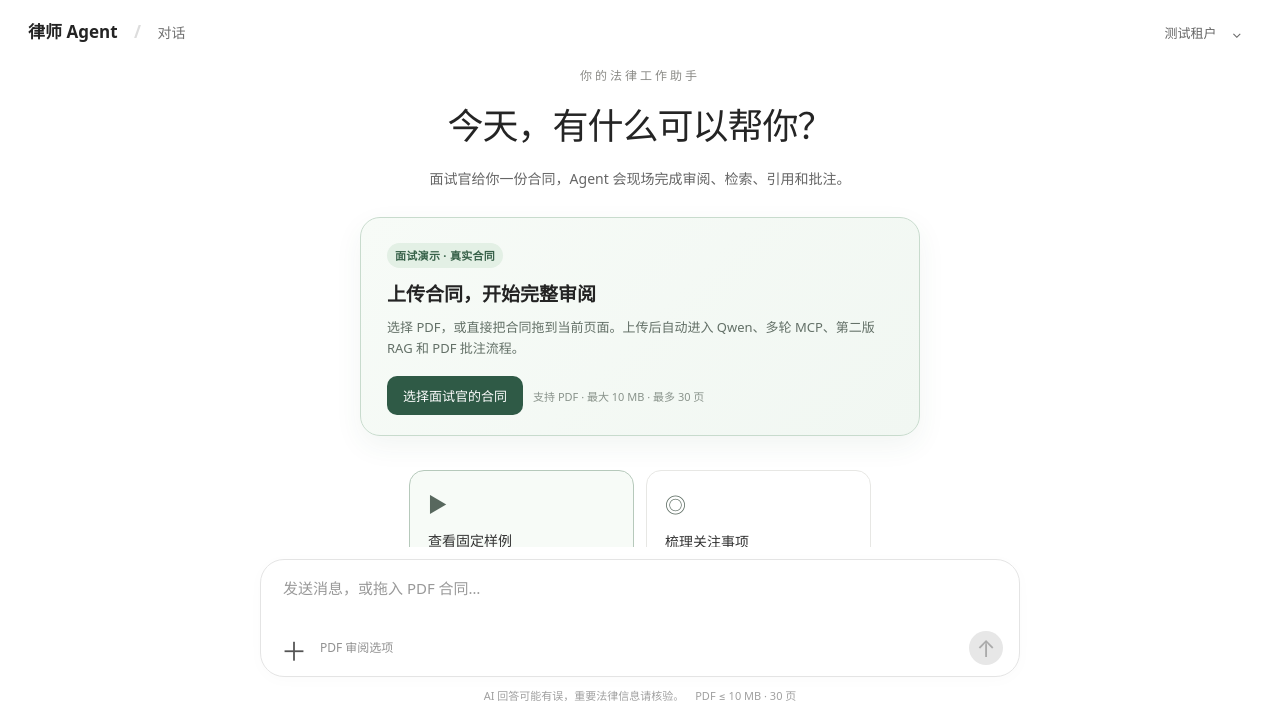
Test: 对话工作区 › 普通聊天取得独立租户令牌，保存会话且保留账号身份
The image size is (1280, 720).
Type "你好" into the text box with placeholder "发送消息，或拖入 PDF 合同…" at (640, 604), box [277,576,1003,631]
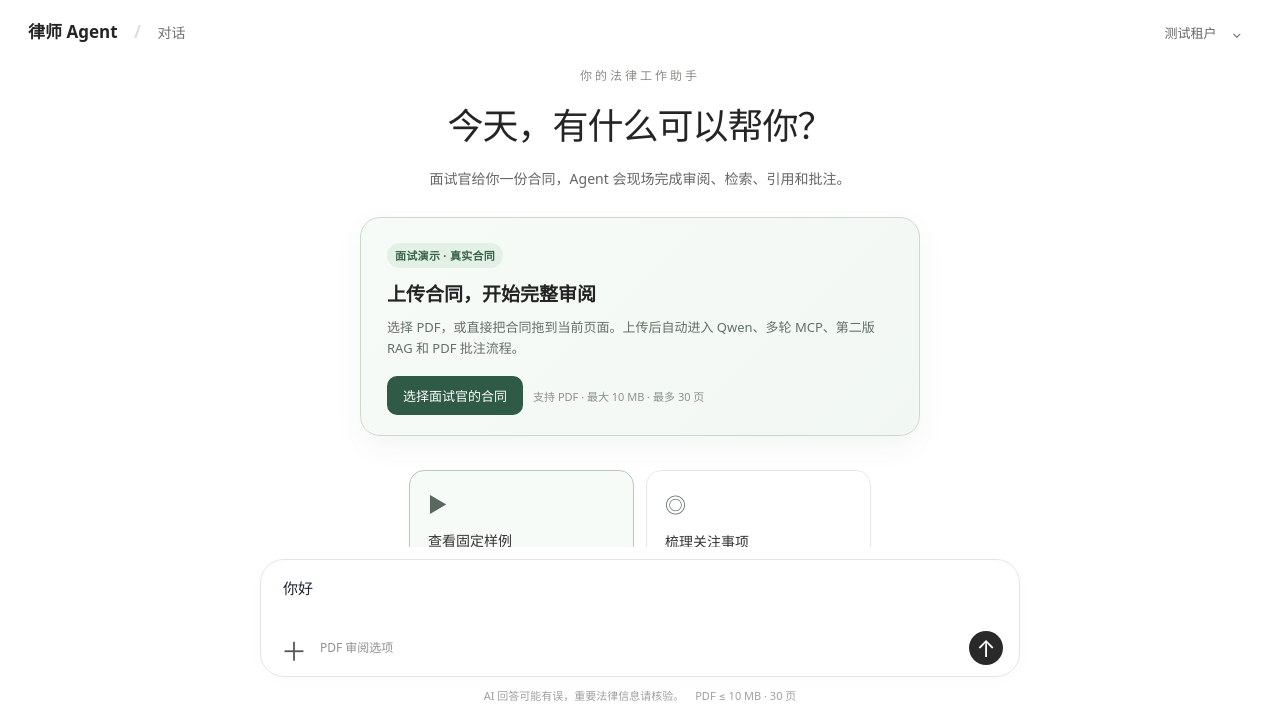
Submit the form, box [260,559,1020,677]
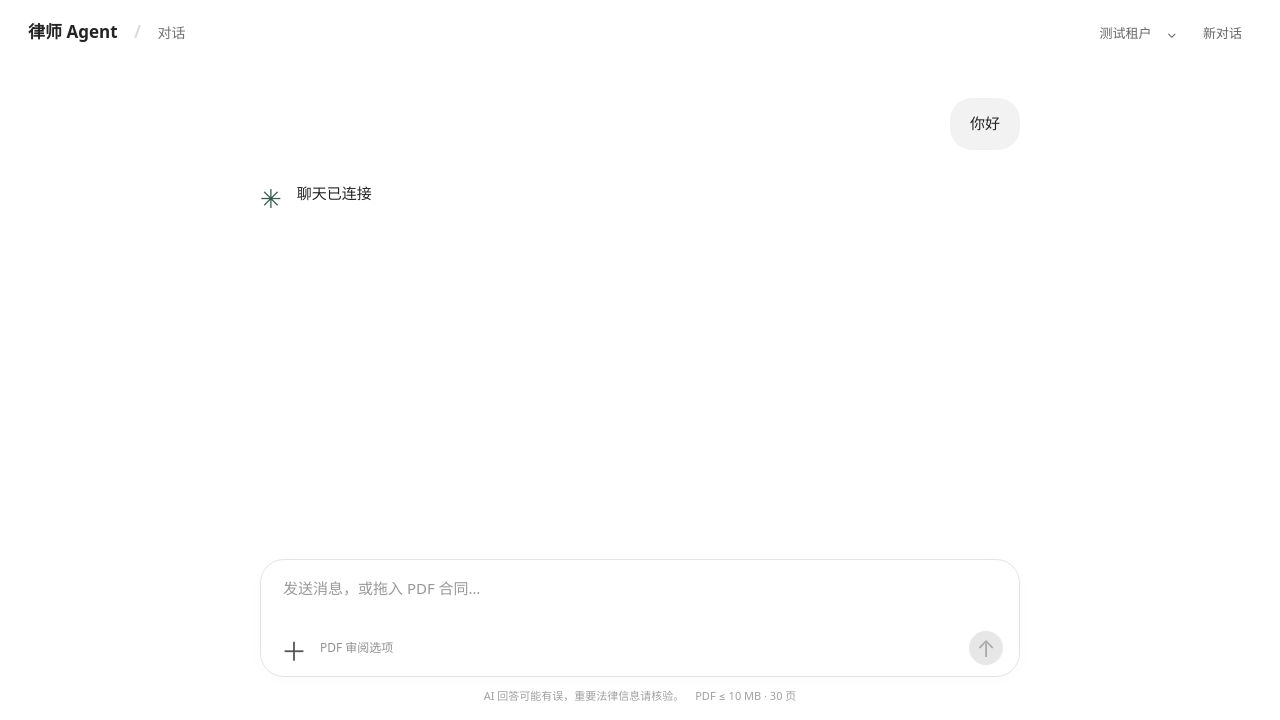
Result: the text "聊天已连接" is shown at [297,180,372,208]
